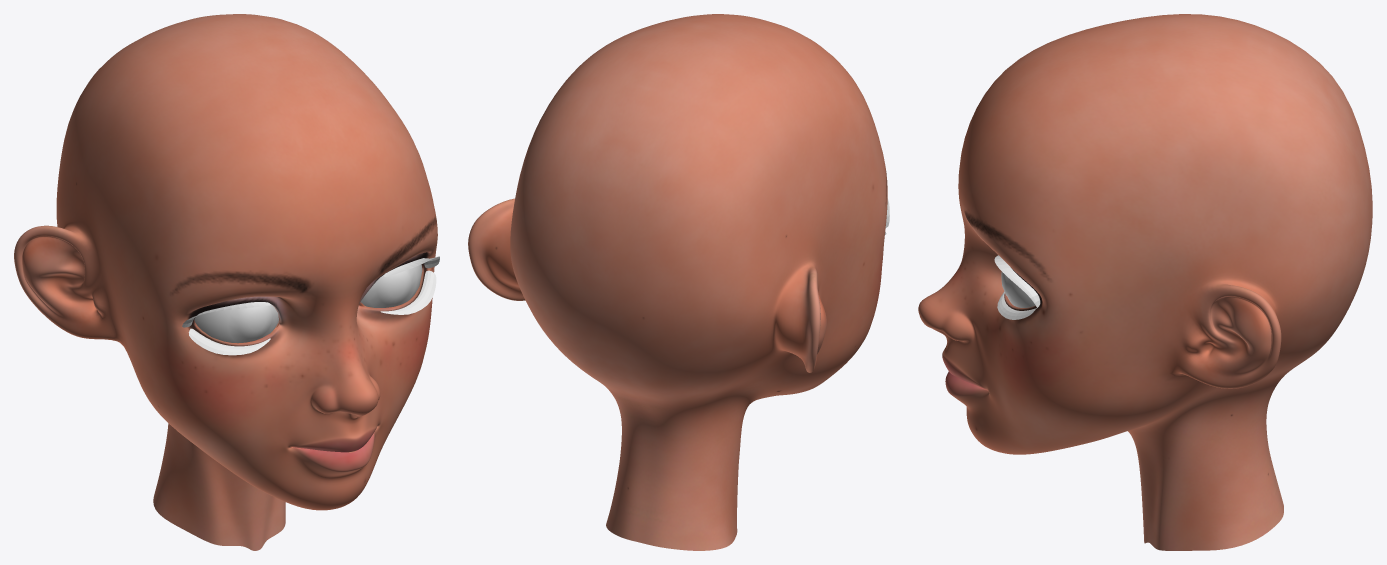
The model's file is Girl_Textured_Hi_001.fbx.
3 renders of one model, left to right at view 1: azimuth 30°, elevation 25°; view 2: azimuth 150°, elevation 25°; view 3: azimuth 270°, elevation 25°, orthographic. The views are drawn at different scales.
Visible parts, largest first — view 1: Girl_Face, Cornea, EyeLashes; view 2: Girl_Face; view 3: Girl_Face, EyeLashes, Cornea.
Boxes of the visible parts, x1,y1,x2,y2 form: Girl_Face: [14, 14, 437, 550]; Cornea: [194, 264, 422, 343]; EyeLashes: [182, 256, 439, 355]; Girl_Face: [468, 14, 887, 550]; Girl_Face: [918, 14, 1372, 550]; EyeLashes: [994, 255, 1040, 319]; Cornea: [1001, 271, 1035, 307].
Bounding box in the file's own units: 240 × 325 × 262.
